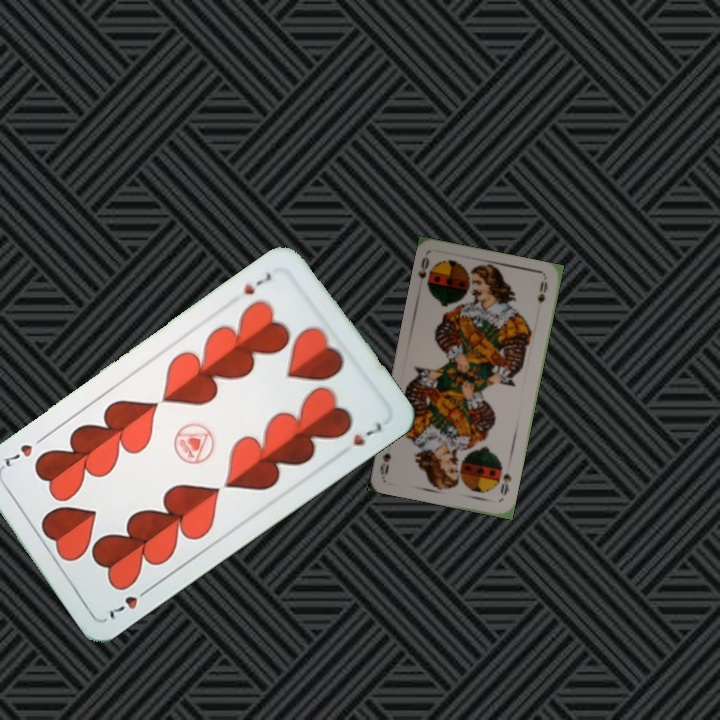H7: (105, 582, 154, 623), (238, 268, 275, 298)
SO: (496, 469, 514, 498), (414, 253, 431, 282)
